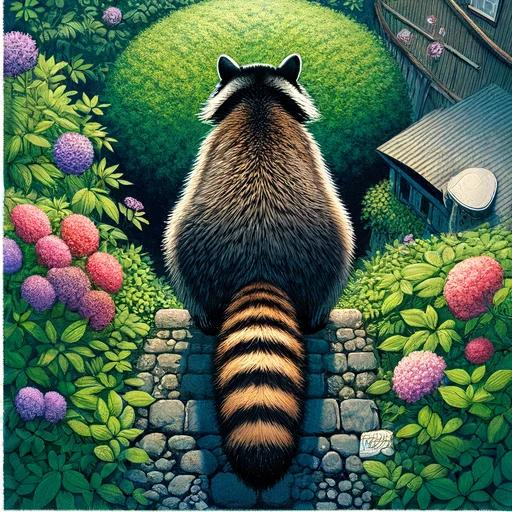raccoon: (150, 43, 366, 501)
